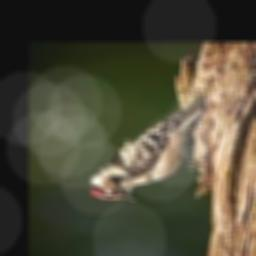Woodpecker: (87, 96, 204, 203)
